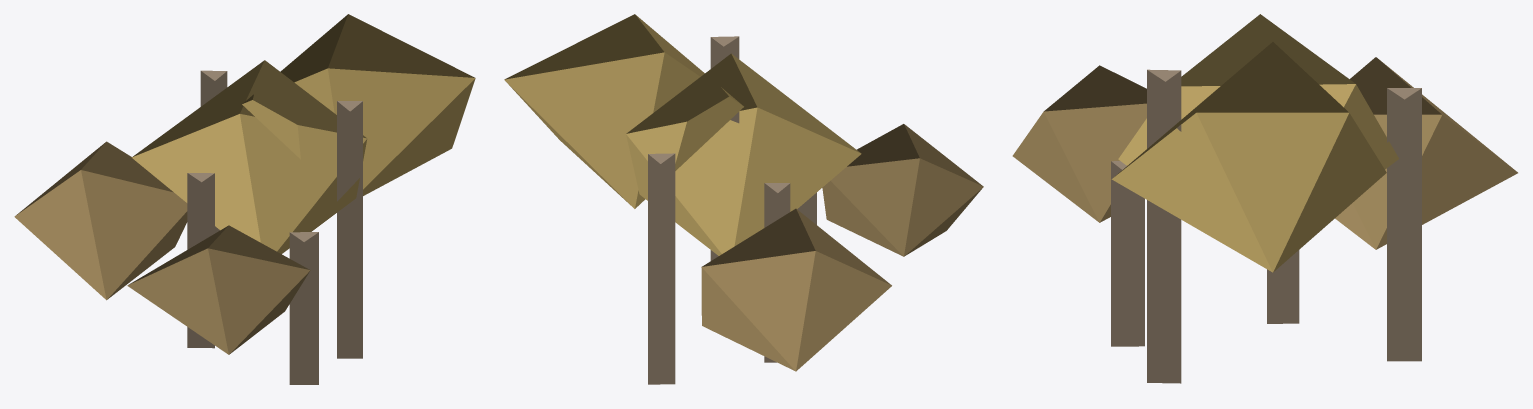
File: shrub.sub.arid_bush__autumn.glb
The picture shows the model from 3 angles, left to right: view 1: azimuth 30°, elevation 25°; view 2: azimuth 150°, elevation 25°; view 3: azimuth 270°, elevation 25°; orthographic projection. The views are drawn at different scales.
Parts seen in each view (by area): view 1: shrub.sub.arid_bush__autumn; view 2: shrub.sub.arid_bush__autumn; view 3: shrub.sub.arid_bush__autumn.
Part boxes in pixels (box(x1,y1,x2,y2)): shrub.sub.arid_bush__autumn: box(14, 14, 475, 384); shrub.sub.arid_bush__autumn: box(504, 14, 983, 384); shrub.sub.arid_bush__autumn: box(1012, 14, 1517, 383).
Bounding box in the file's own units: 1.76 × 1.31 × 1.61.
